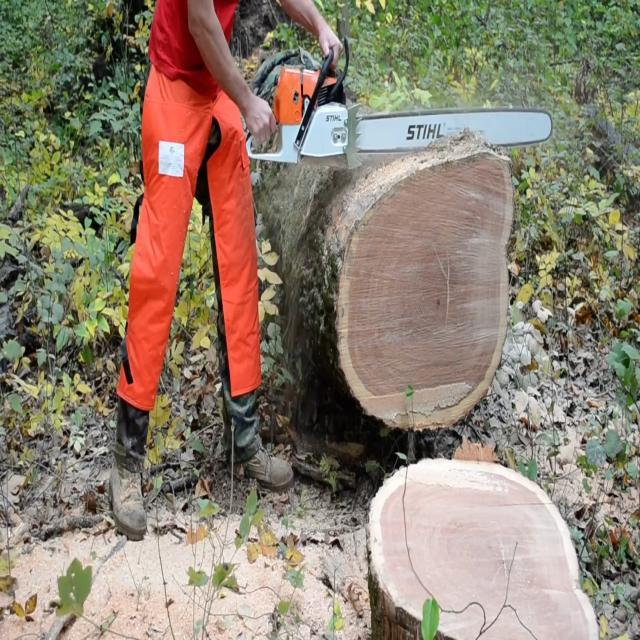Chainsaw: (232, 50, 566, 190)
